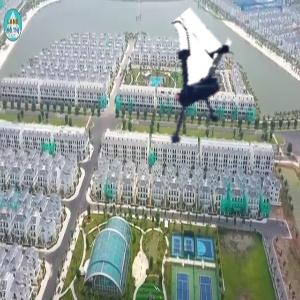drone: (126, 28, 258, 160)
